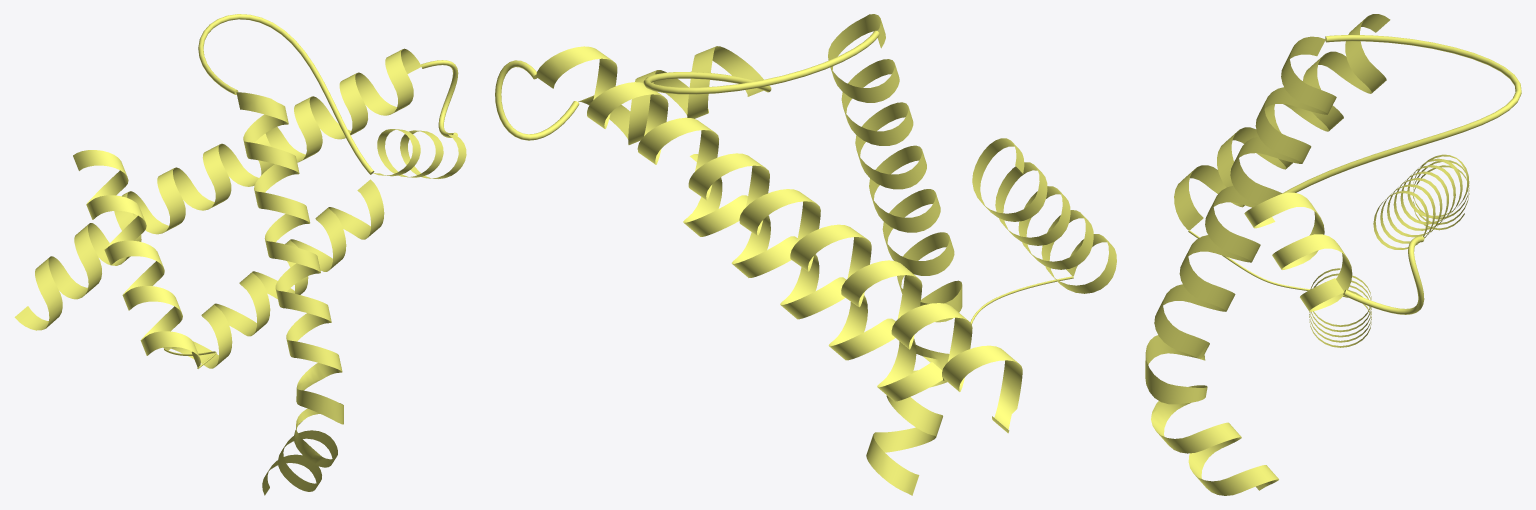
Rendered from Enzymes.fbx.
The picture shows the model from 3 angles, left to right: view 1: azimuth 30°, elevation 25°; view 2: azimuth 150°, elevation 25°; view 3: azimuth 270°, elevation 25°; orthographic projection. The views are drawn at different scales.
Parts seen in each view (by area): view 1: _1330; view 2: _1330; view 3: _1330.
Part boxes in pixels (x1,y1,x2,y2): _1330: (14, 14, 466, 495); _1330: (495, 14, 1116, 495); _1330: (1145, 14, 1521, 495).
Size of the model in its own units: 2.81 by 2.46 by 1.84.
